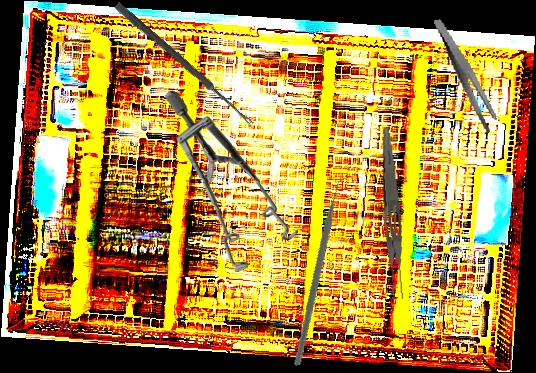Chopper: (241, 173, 408, 367)
Dressing Forceps: (433, 12, 500, 139), (374, 126, 408, 301)
Speculum: (159, 91, 303, 274)
Surgical Spoon: (113, 1, 256, 128)
